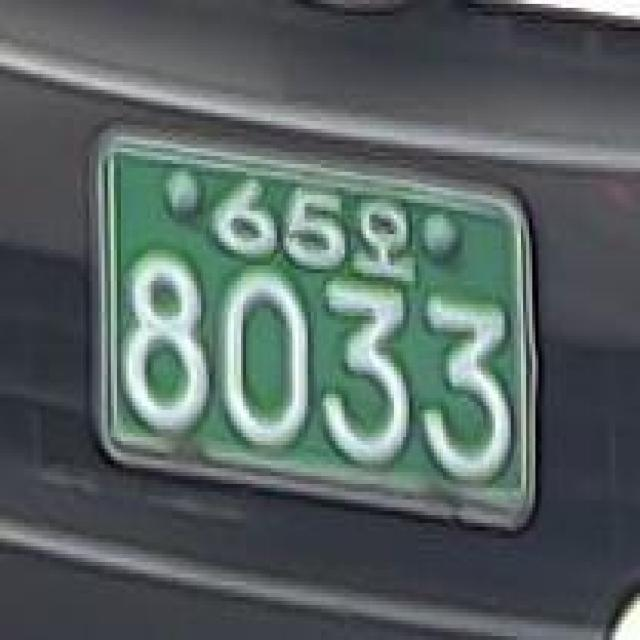illegal_plate: (73, 112, 553, 551)
